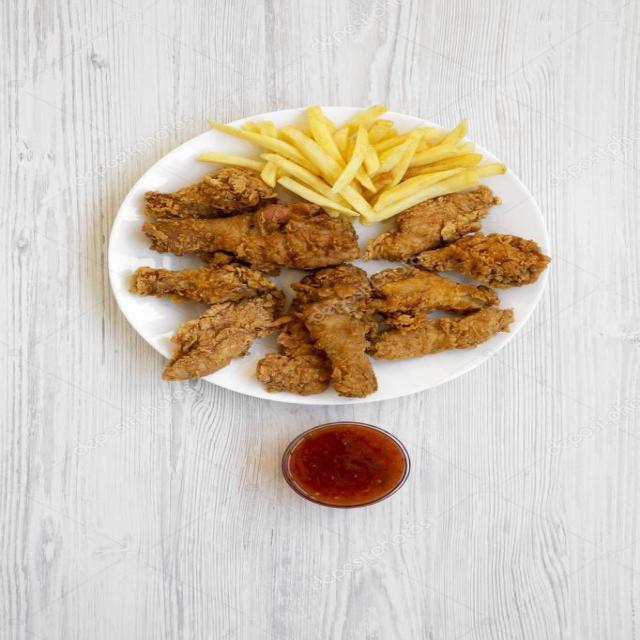carb: (201, 106, 507, 225)
meat: (132, 169, 550, 398)
